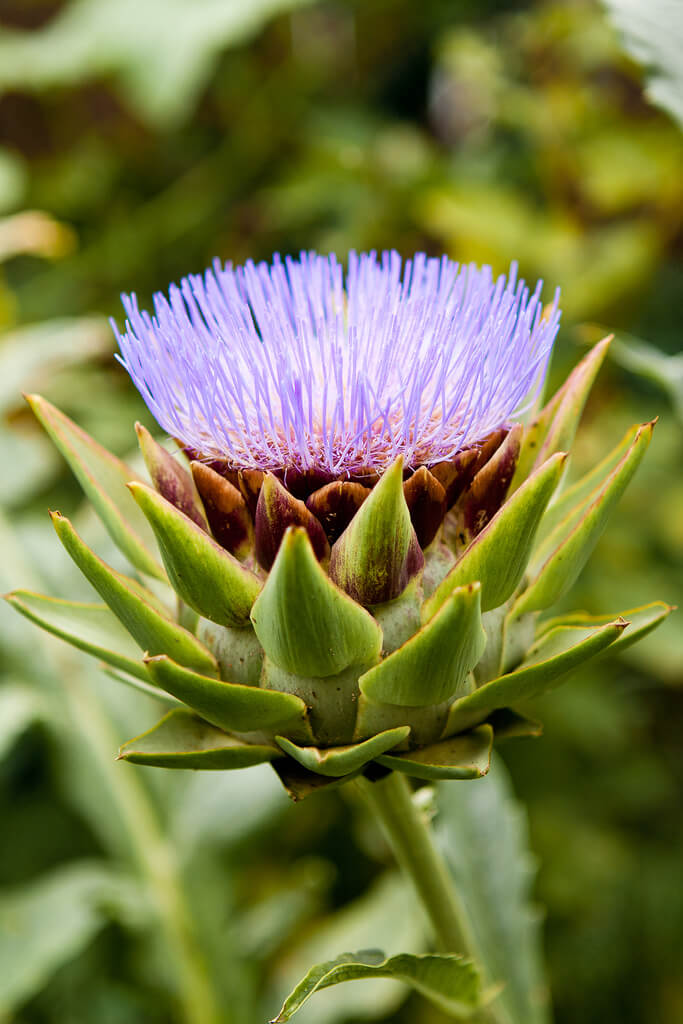thistle: (42, 255, 667, 797)
